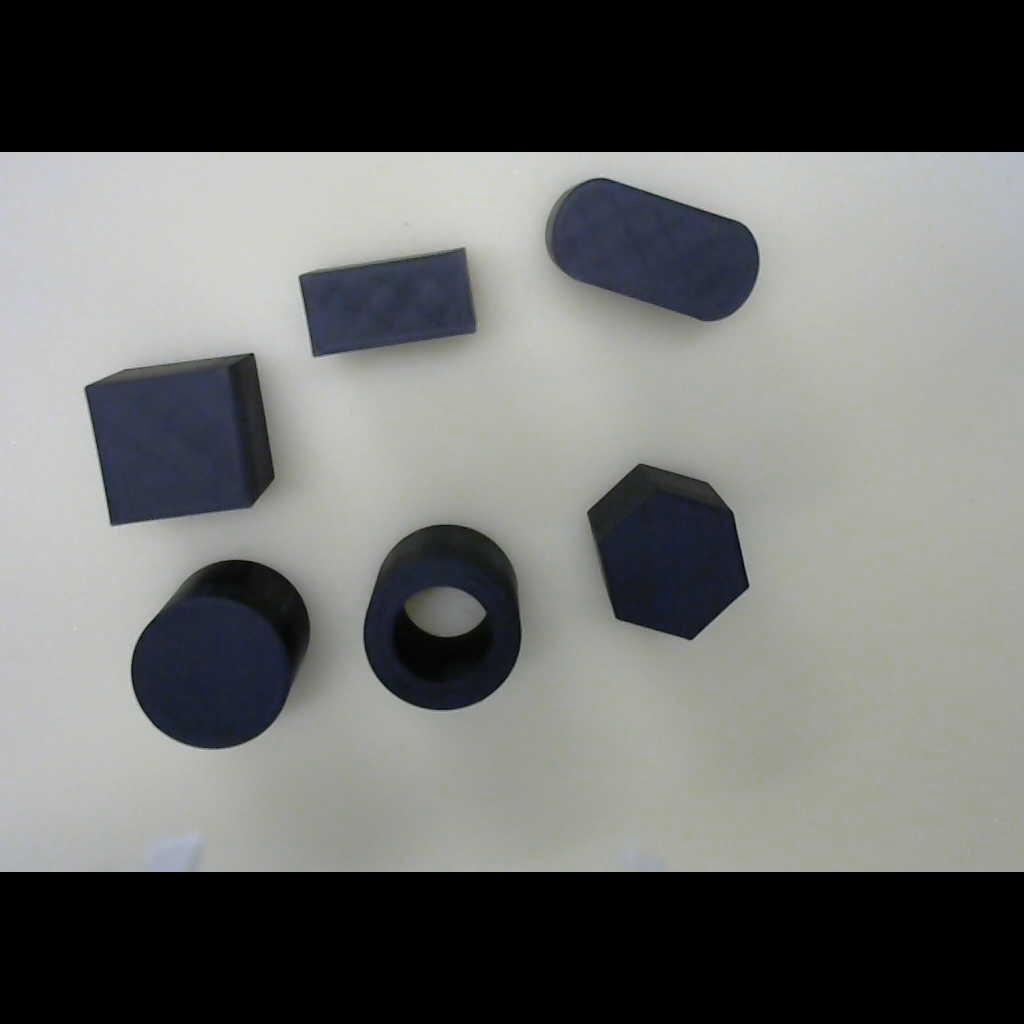circle: (122, 552, 329, 761)
hexagon: (559, 428, 778, 676)
oval: (515, 153, 794, 352)
rectangle: (285, 238, 496, 368)
ring: (325, 496, 572, 752)
square: (53, 313, 310, 566)
